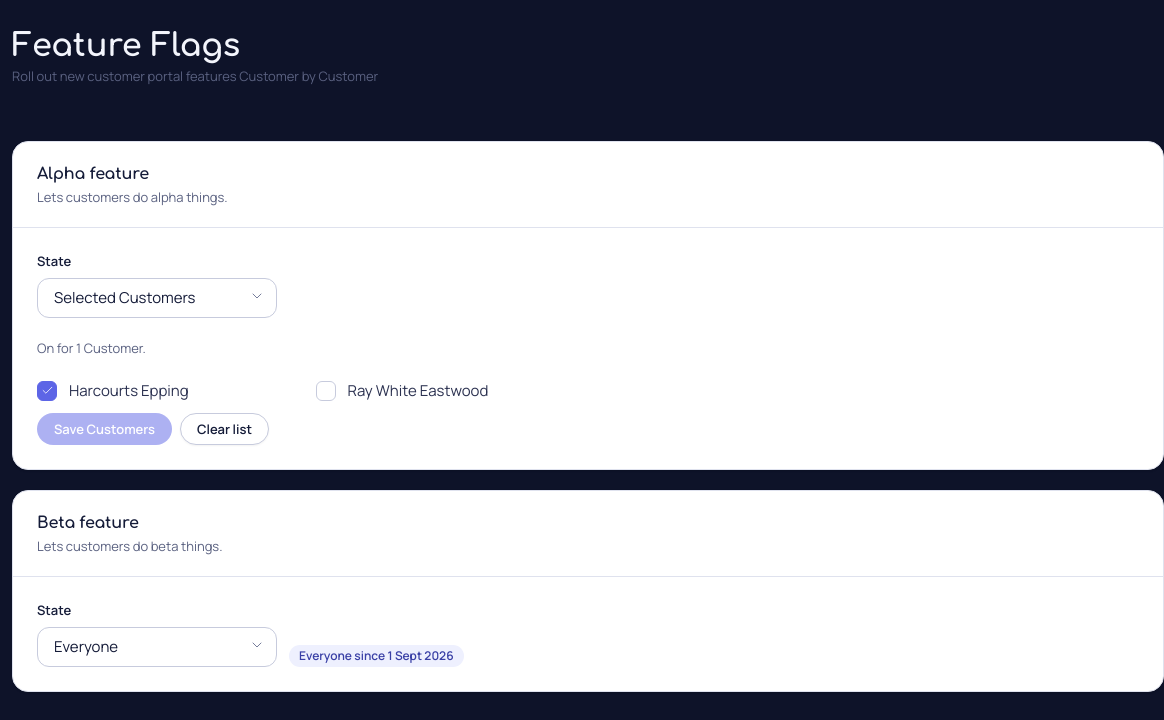
Administrator Feature Flags page › changes the state through the admin route
The width and height of the screenshot is (1164, 720).
Select "Off" in the dropdown labelled "State" below "Lets customers do alpha things.": (157, 298) [37,278,277,318]
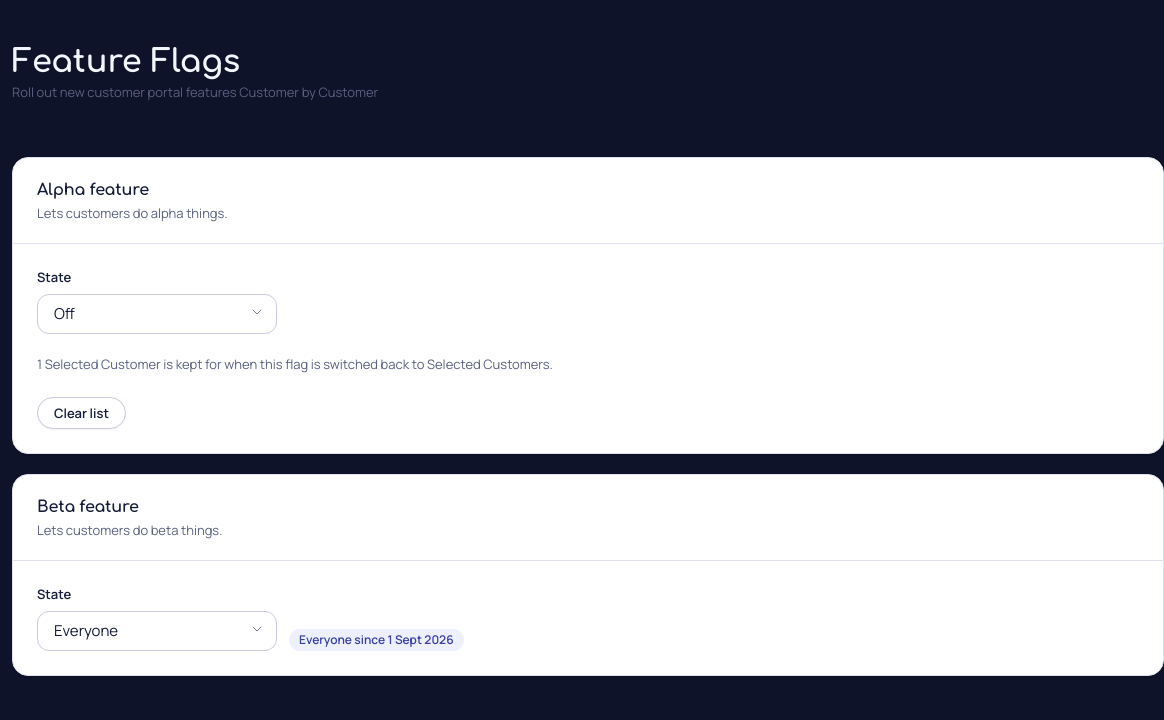
Expected: the element "Selected Customers" is not shown
Expected: the text "1 Selected Customer is kept" is shown, [37,356,553,374]
